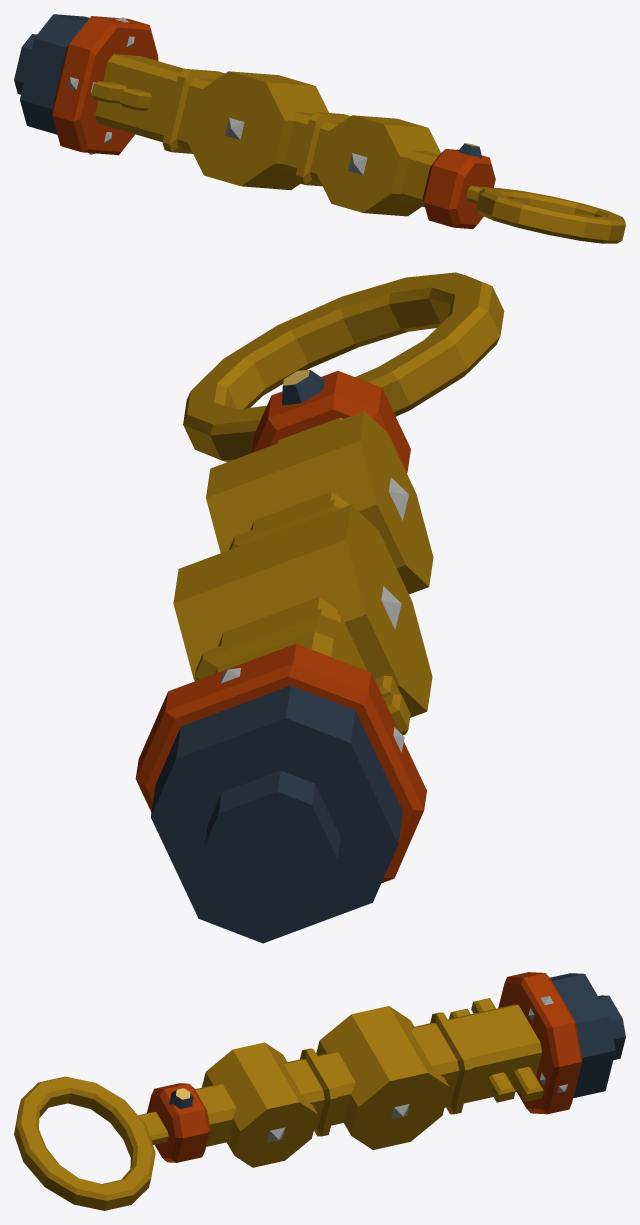
File: plain-cuff-bracelet-ee52d1.glb
3 views of the same model, one above another, from view 1: azimuth 30°, elevation 25°; view 2: azimuth 150°, elevation 25°; view 3: azimuth 270°, elevation 25° (orthographic). The views are drawn at different scales.
Parts seen in each view (by area): view 1: pinky-finger-phalanx-proximal, pinky-finger-phalanx-intermediate, pinky-finger-phalanx-distal; view 2: pinky-finger-phalanx-proximal, pinky-finger-phalanx-distal, pinky-finger-phalanx-intermediate; view 3: pinky-finger-phalanx-proximal, pinky-finger-phalanx-distal, pinky-finger-phalanx-intermediate.
Boxes of the visible parts, left/top/right/bottom form: pinky-finger-phalanx-proximal: left=14, top=14, right=328, bottom=190; pinky-finger-phalanx-intermediate: left=280, top=111, right=440, bottom=216; pinky-finger-phalanx-distal: left=398, top=143, right=625, bottom=243; pinky-finger-phalanx-proximal: left=135, top=504, right=432, bottom=943; pinky-finger-phalanx-distal: left=183, top=272, right=504, bottom=472; pinky-finger-phalanx-intermediate: left=206, top=411, right=433, bottom=594; pinky-finger-phalanx-proximal: left=316, top=972, right=625, bottom=1149; pinky-finger-phalanx-distal: left=14, top=1076, right=236, bottom=1210; pinky-finger-phalanx-intermediate: left=202, top=1042, right=355, bottom=1167.
Bounding box in the file's own units: 0.0571 × 0.0215 × 0.091.
